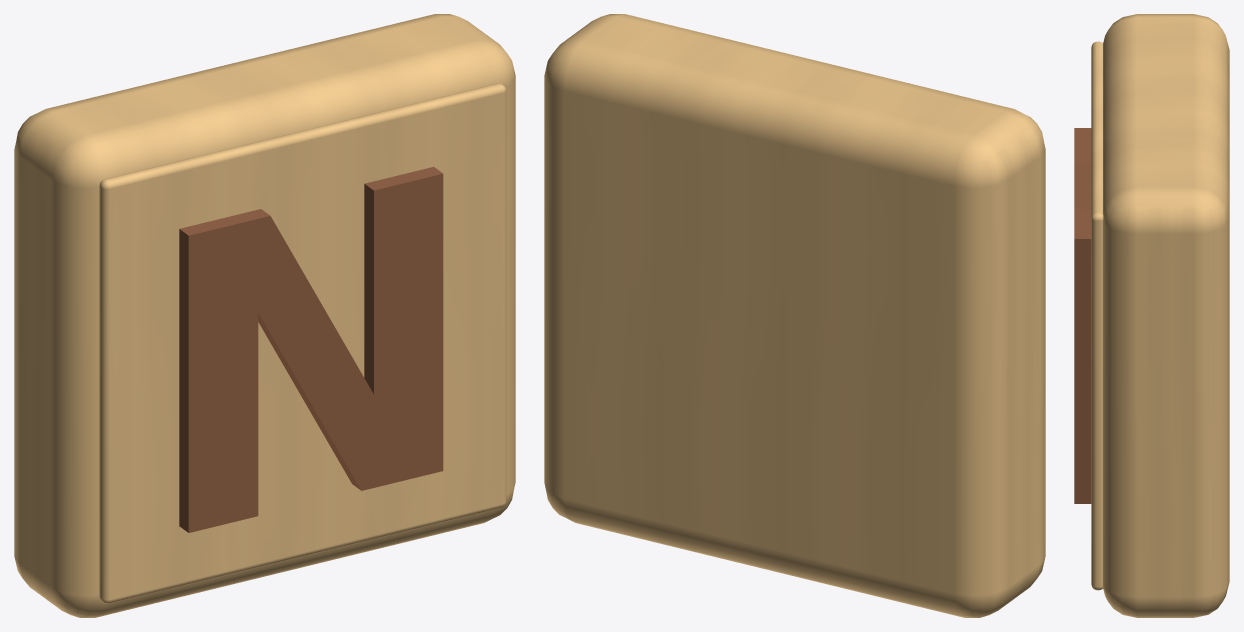
3 views of the same model, side by side, from view 1: azimuth 30°, elevation 25°; view 2: azimuth 150°, elevation 25°; view 3: azimuth 270°, elevation 25° (orthographic). The views are drawn at different scales.
Parts seen in each view (by area): view 1: Tile_N; view 2: Tile_N; view 3: Tile_N.
Boxes of the visible parts, <box> form: Tile_N: <box>14,14,515,617</box>; Tile_N: <box>544,14,1045,617</box>; Tile_N: <box>1074,14,1229,617</box>.
Size of the model in its own units: 0.21 by 0.21 by 0.069.
2 materials, 1 textured.
